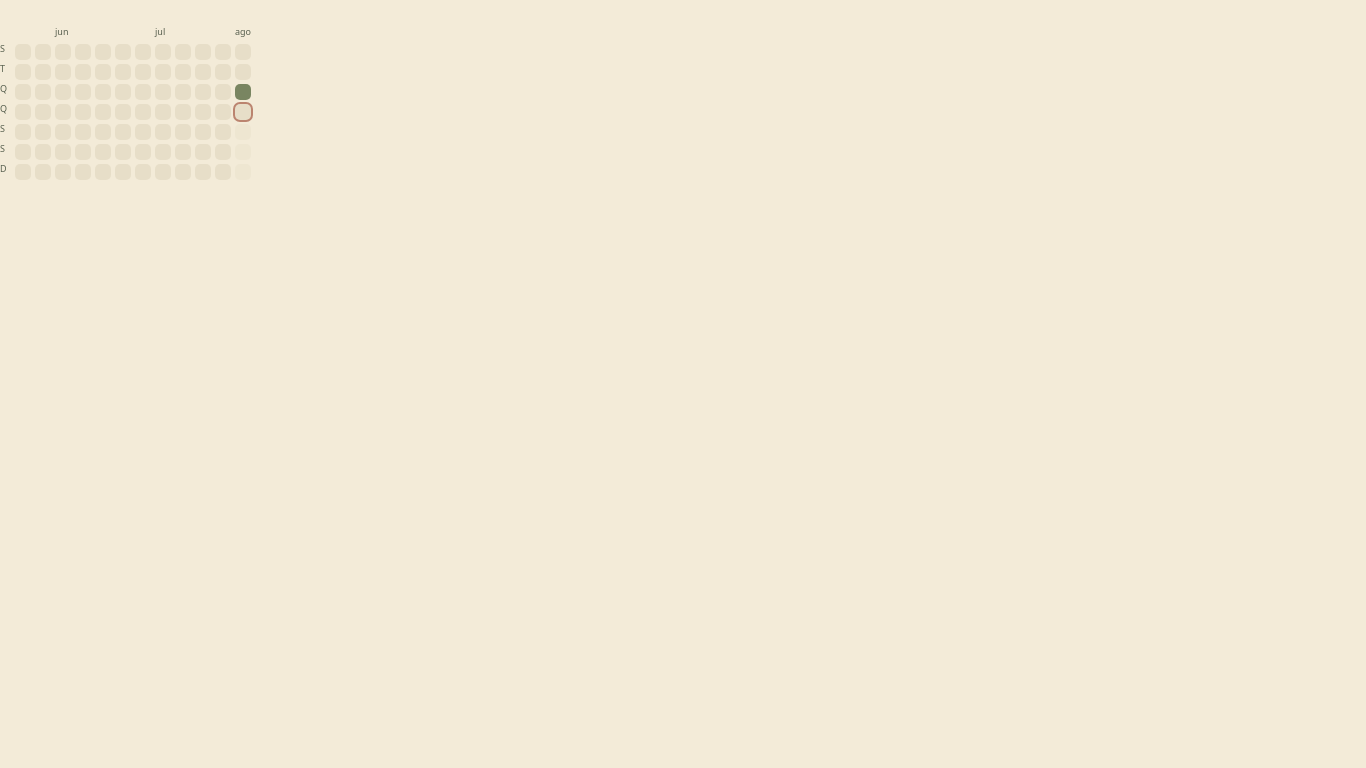
MapaCalor — ordem e formatação do popover no fuso local › formata durações de forma consistente por item e no total do dia
Click the button named "05 de ago. — 3 práticas" at (243, 92), box [235,84,251,100]
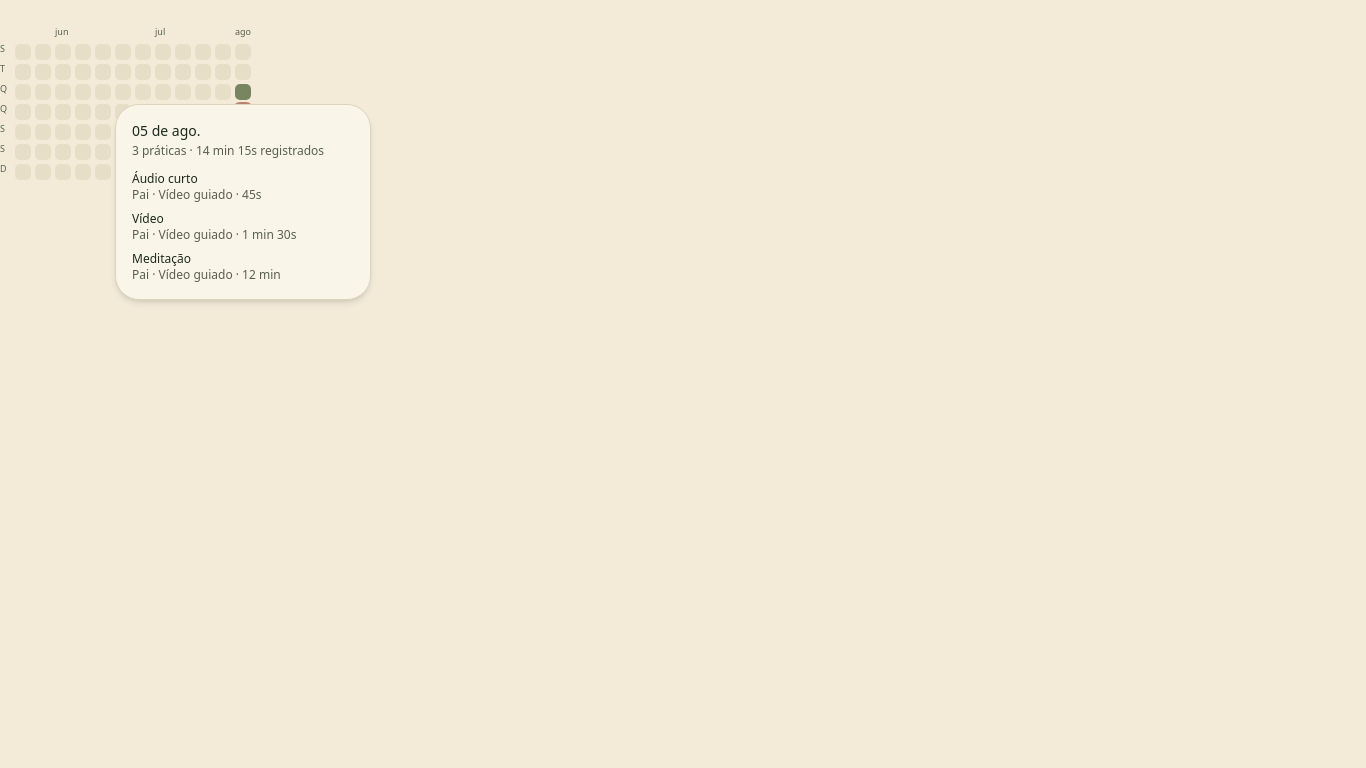
Check: the list item "Áudio curto Pai · Vídeo guiado · 45s" is shown, box [132,170,262,203]
Check: the list item "Vídeo Pai · Vídeo guiado · 1 min 30s" is shown, box [132,210,296,243]
Check: the list item "Meditação Pai · Vídeo guiado · 12 min" is shown, box [132,250,281,283]
